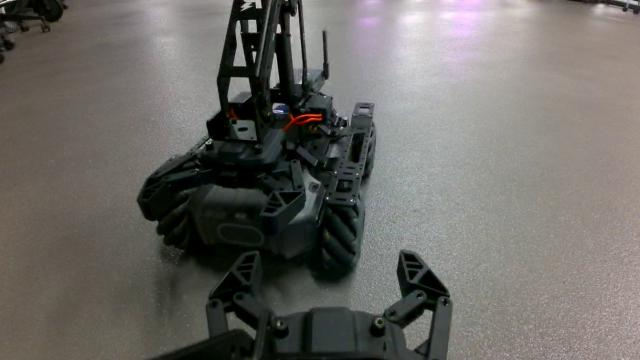robot: (136, 0, 378, 274)
